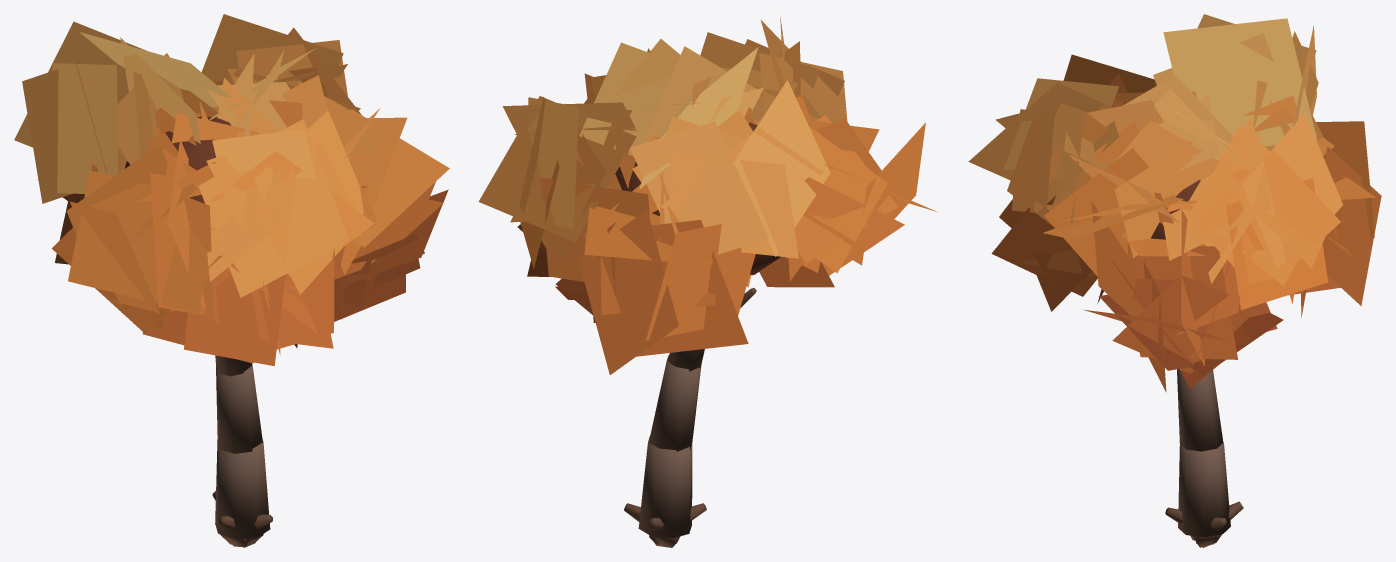
Rendered from tree_orange.glb.
3 renders of one model, left to right at view 1: azimuth 30°, elevation 25°; view 2: azimuth 150°, elevation 25°; view 3: azimuth 270°, elevation 25°, orthographic. The views are drawn at different scales.
Visible parts, largest first — view 1: Leaves, Tree; view 2: Leaves, Tree; view 3: Leaves, Tree.
Part boxes in pixels (x1=…): Leaves: x1=14, y1=14, x2=449, y2=366; Tree: x1=125, y1=116, x2=272, y2=547; Leaves: x1=478, y1=14, x2=938, y2=374; Tree: x1=615, y1=122, x2=780, y2=547; Leaves: x1=968, y1=14, x2=1381, y2=392; Tree: x1=1151, y1=180, x2=1243, y2=547.
Size of the model in its own units: 3.24 by 3.91 by 3.06.
